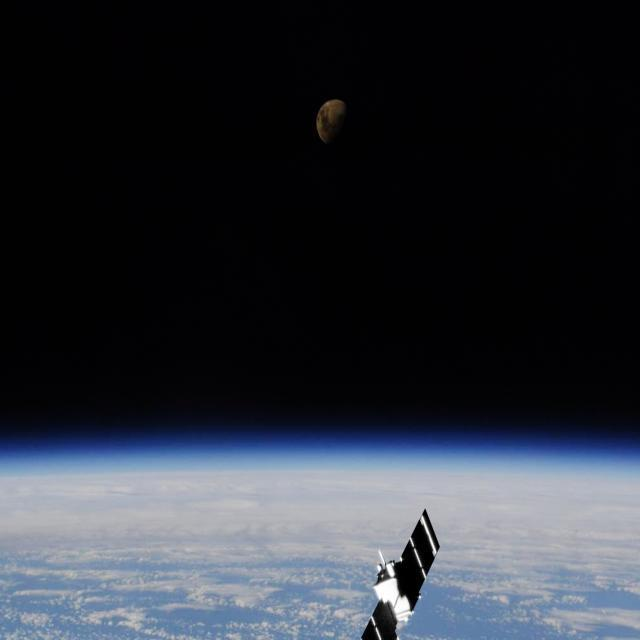satellite: (332, 503, 456, 640)
